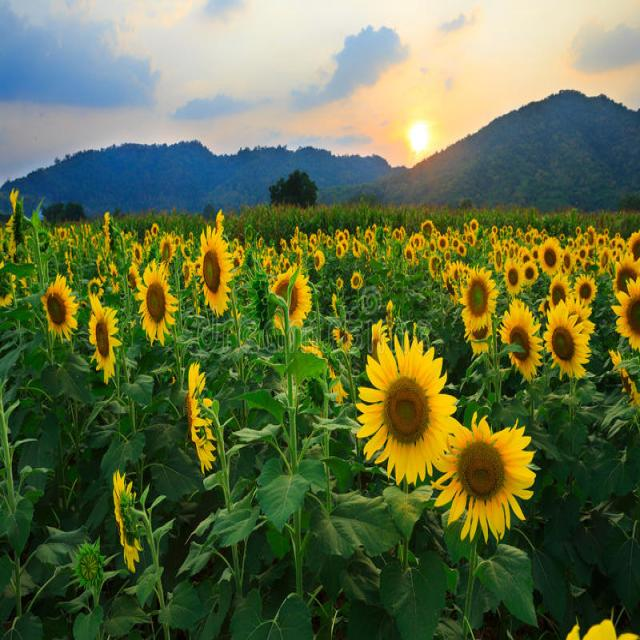sunflower: (357, 332, 455, 485), (431, 413, 539, 545), (181, 362, 229, 482), (126, 255, 182, 348), (105, 467, 150, 575), (192, 228, 242, 322), (538, 306, 598, 381), (495, 300, 546, 381), (86, 286, 121, 392), (270, 262, 314, 341), (38, 271, 82, 342), (458, 264, 499, 336), (537, 235, 562, 281), (572, 268, 598, 308), (500, 258, 526, 297), (421, 217, 436, 243), (457, 239, 468, 259)
